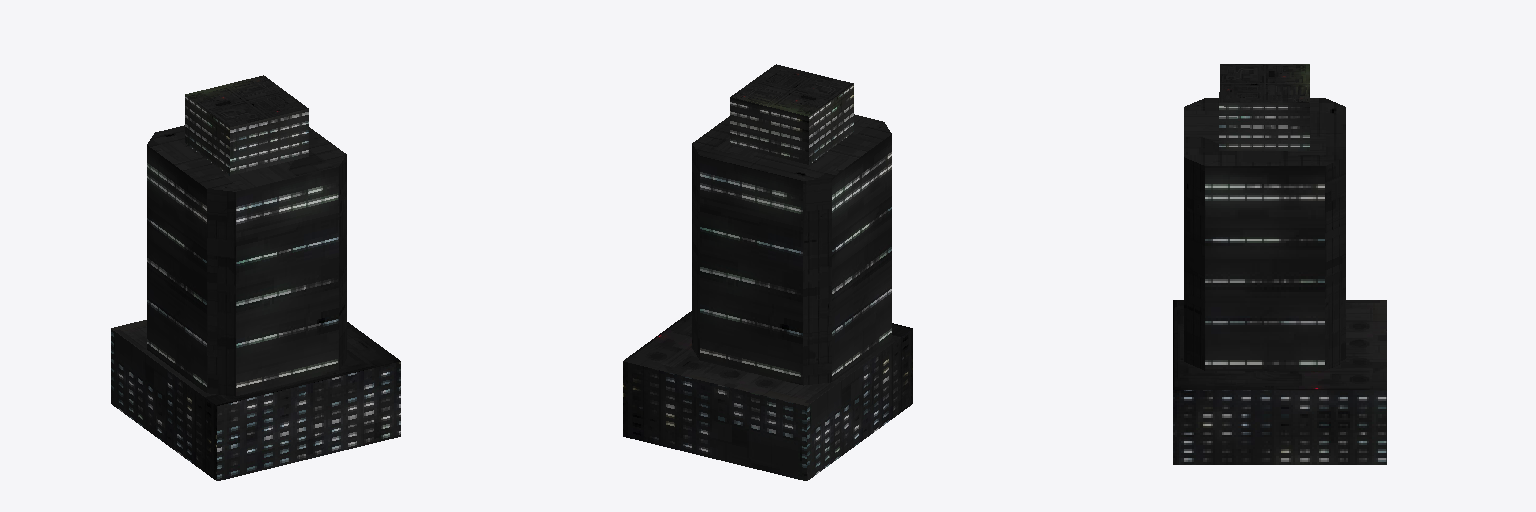
3 renders of one model, left to right at view 1: azimuth 30°, elevation 25°; view 2: azimuth 150°, elevation 25°; view 3: azimuth 270°, elevation 25°, orthographic.
Visible parts, largest first — view 1: building_36; view 2: building_36; view 3: building_36.
Boxes of the visible parts, box(x1,y1,x2,y2) form: building_36: box(111, 75, 400, 480); building_36: box(623, 64, 912, 480); building_36: box(1173, 64, 1386, 464).
Bounding box in the file's own units: 73.58 × 125 × 73.58.
Materials: 1 (1 with a texture image).